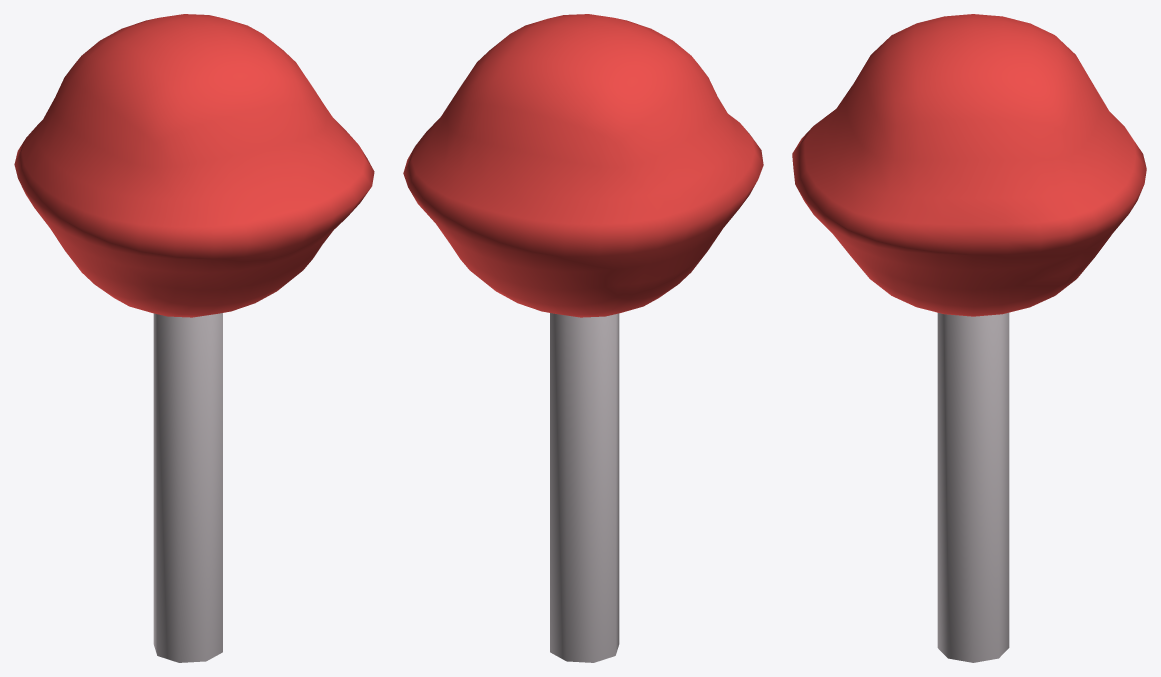
Rendered from bombon3Colors.fbx.
3 renders of one model, left to right at view 1: azimuth 30°, elevation 25°; view 2: azimuth 150°, elevation 25°; view 3: azimuth 270°, elevation 25°, orthographic.
Visible parts, largest first — view 1: Cylinder; view 2: Cylinder; view 3: Cylinder.
Part boxes in pixels (left/top/right/bottom): Cylinder: left=14, top=14, right=374, bottom=662; Cylinder: left=403, top=14, right=763, bottom=662; Cylinder: left=792, top=14, right=1146, bottom=662.
Bounding box in the file's own units: 183 × 365 × 190.
